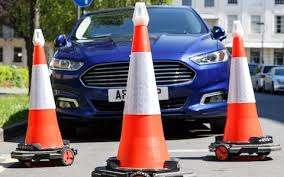car: (48, 7, 242, 133)
cone: (97, 3, 188, 173), (12, 29, 78, 158), (218, 20, 274, 146)
